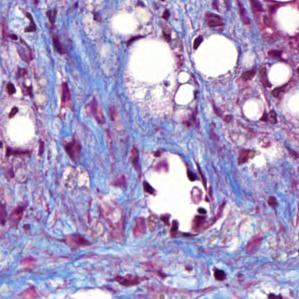steatosis: (268, 59, 295, 90)
